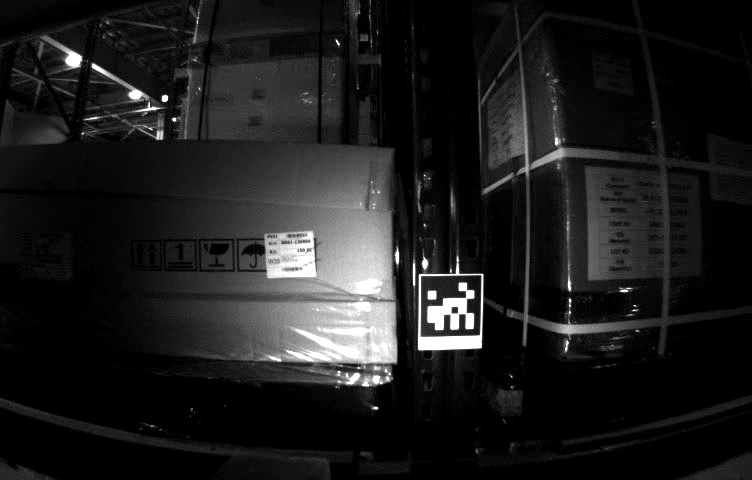True Barcode: (265, 233, 318, 278), (590, 51, 634, 96)
